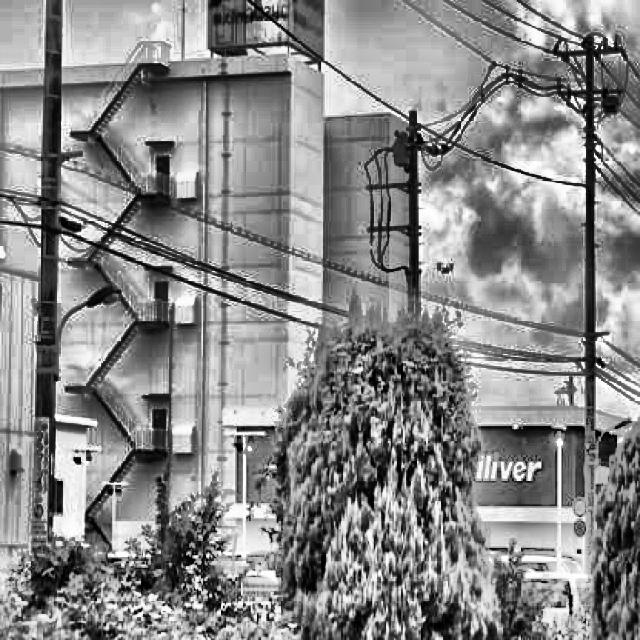V22: (436, 260, 456, 274)
